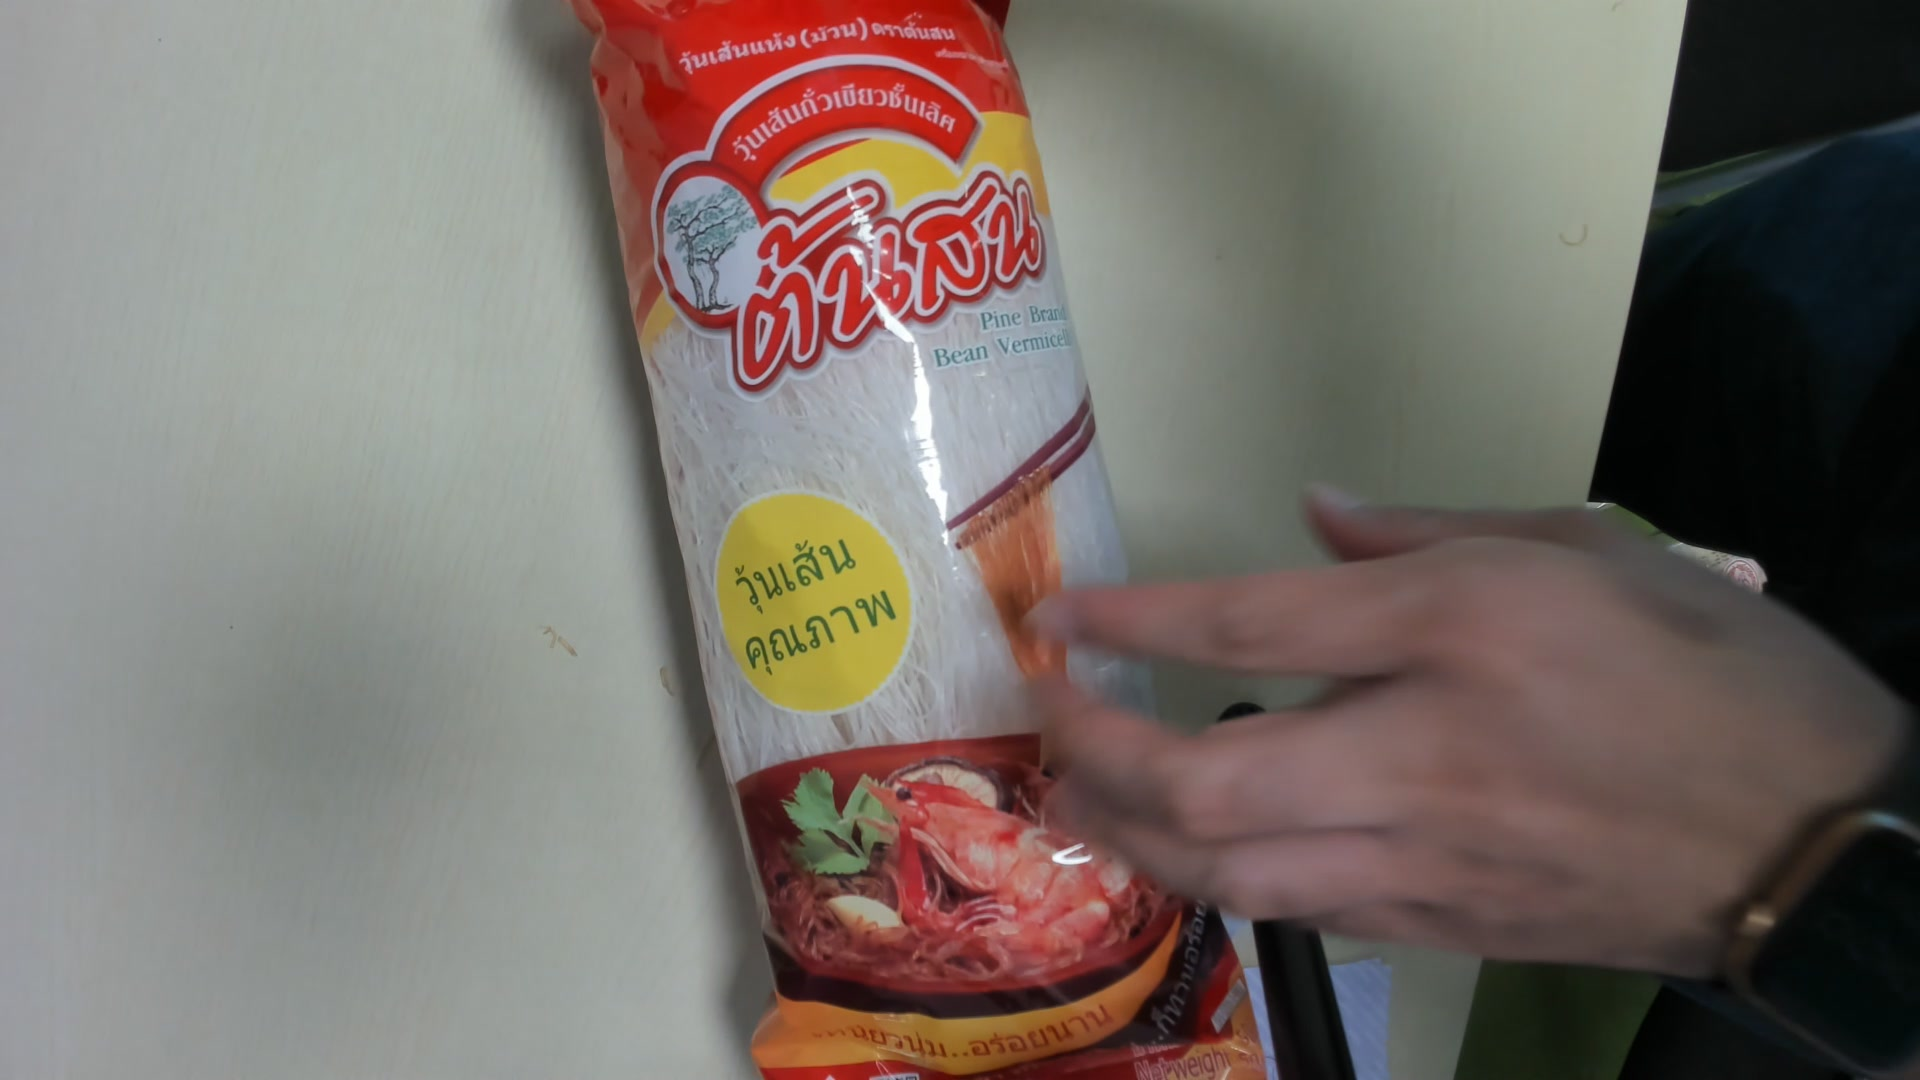BeeHoonVermicelli_500-599g_Halal_NonHealthy: (574, 1, 1266, 1080)
